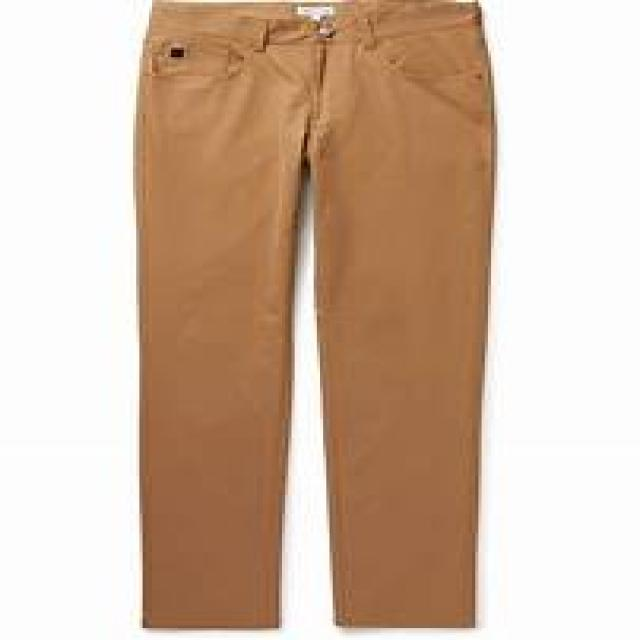long-pants: (133, 0, 497, 635)
